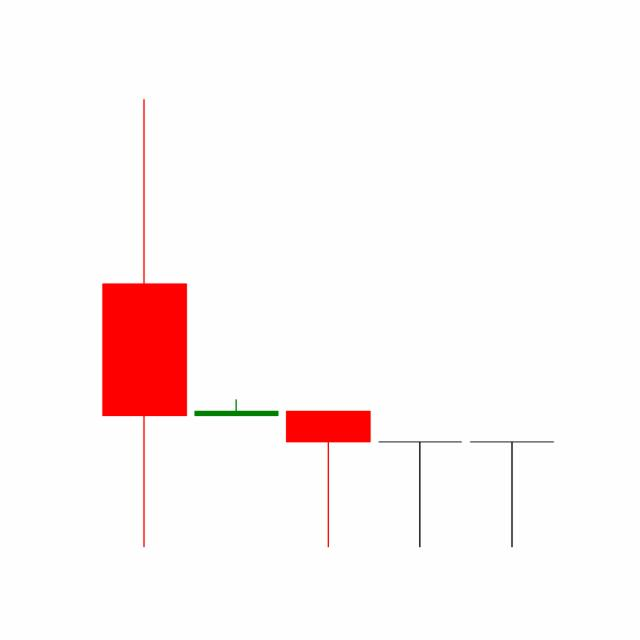Hanging Man: (464, 440, 558, 548)
